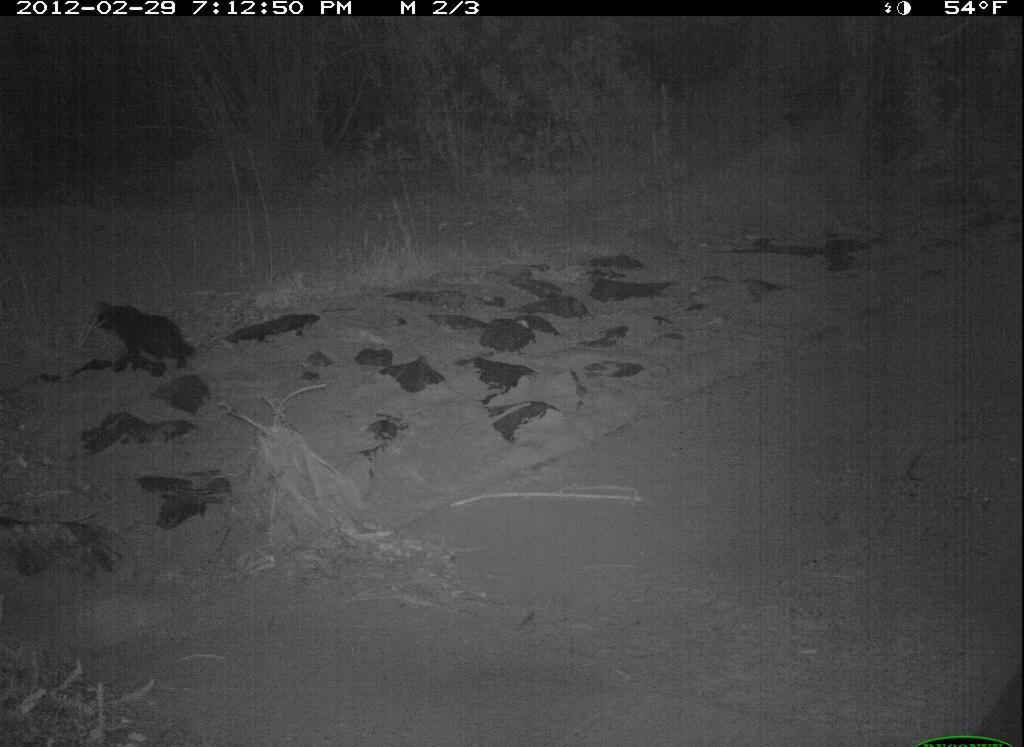cat: (88, 292, 213, 383)
